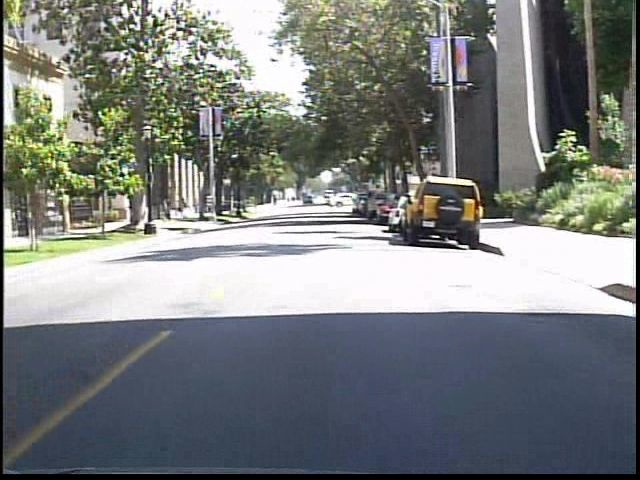person: (166, 194, 186, 226), (149, 191, 167, 225)
